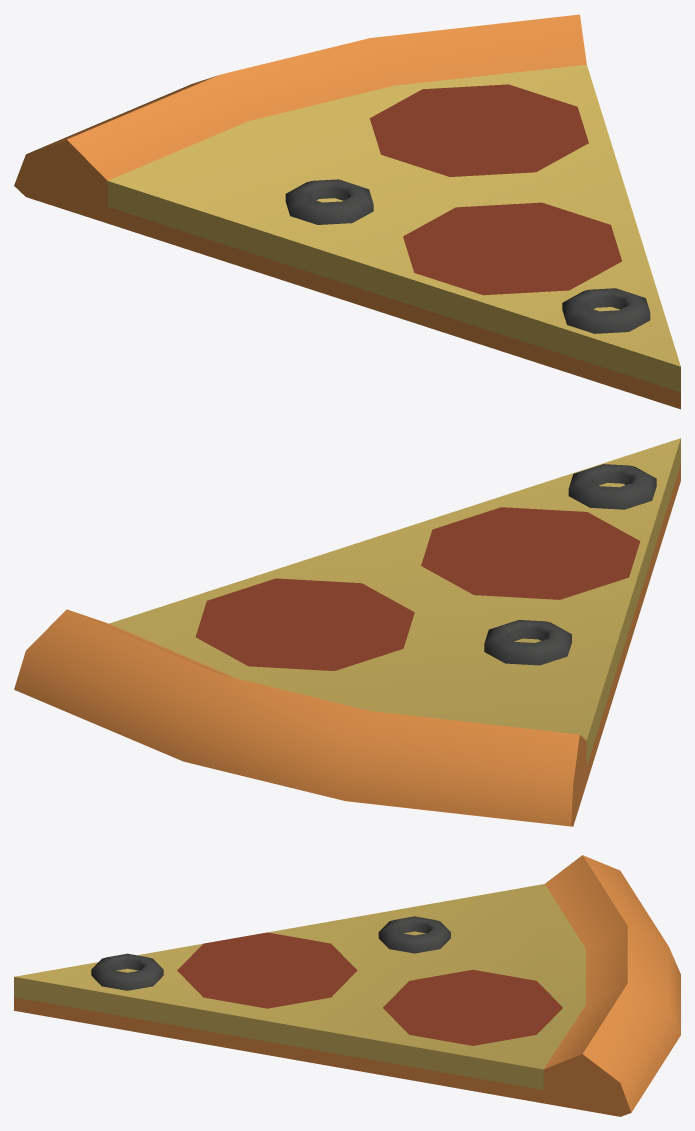
Rendered from PizzaSlice_01.fbx.
The picture shows the model from 3 angles, top to bottom: view 1: azimuth 30°, elevation 25°; view 2: azimuth 150°, elevation 25°; view 3: azimuth 270°, elevation 25°; orthographic projection. The views are drawn at different scales.
Visible parts, largest first — view 1: PizzaSlice_01; view 2: PizzaSlice_01; view 3: PizzaSlice_01.
Part boxes in pixels (left/top/right/bottom): PizzaSlice_01: left=14, top=14, right=680, bottom=409; PizzaSlice_01: left=14, top=438, right=680, bottom=826; PizzaSlice_01: left=14, top=855, right=680, bottom=1116.
Bounding box in the file's own units: 0.1606 × 0.0195 × 0.2094.
